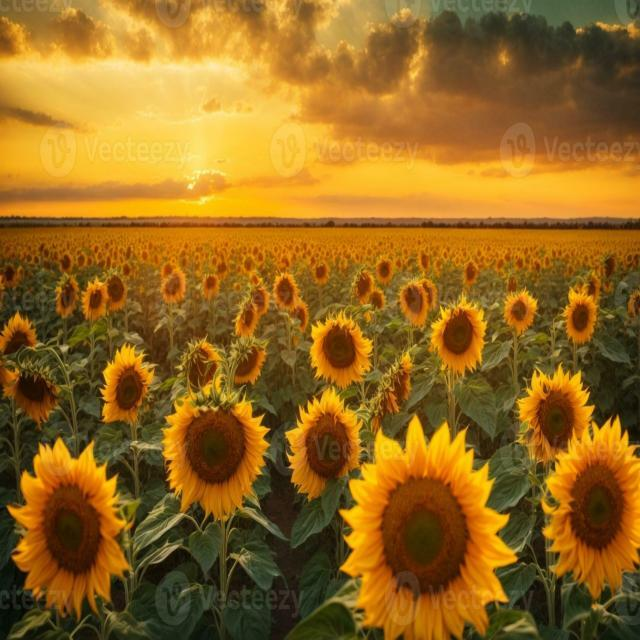sunflower: (338, 413, 518, 639), (6, 436, 131, 622), (540, 413, 640, 600), (160, 375, 270, 519), (284, 386, 363, 501), (516, 362, 594, 464), (309, 308, 373, 389), (429, 294, 487, 376), (99, 342, 155, 424), (363, 351, 412, 436), (2, 366, 59, 428), (178, 337, 221, 395), (562, 284, 597, 344), (229, 336, 266, 386), (503, 288, 538, 336), (0, 310, 37, 354), (398, 280, 428, 327), (80, 276, 108, 322), (54, 274, 80, 318), (272, 272, 299, 312), (160, 268, 187, 305), (104, 274, 127, 312), (234, 302, 258, 338), (352, 270, 374, 304), (364, 288, 386, 322), (602, 253, 620, 292), (290, 299, 309, 333), (249, 286, 270, 316), (418, 278, 437, 310), (581, 273, 601, 303), (375, 256, 393, 286), (201, 272, 220, 300), (462, 262, 478, 290), (312, 262, 330, 286), (1, 264, 18, 288), (627, 289, 640, 318), (58, 252, 74, 273), (161, 260, 177, 280), (214, 260, 230, 280), (418, 248, 431, 272), (76, 252, 88, 270), (494, 254, 506, 271), (507, 274, 518, 292), (249, 272, 263, 286), (514, 257, 526, 273), (120, 261, 132, 276), (434, 258, 443, 276), (242, 258, 252, 273), (140, 248, 150, 263), (210, 254, 219, 270), (104, 254, 113, 270), (41, 244, 50, 260), (17, 264, 25, 282), (152, 252, 162, 266), (542, 255, 552, 269), (126, 244, 134, 260), (181, 254, 190, 268), (566, 264, 575, 278), (534, 260, 543, 274), (256, 250, 266, 262), (624, 252, 634, 264), (52, 249, 61, 262), (86, 256, 95, 268), (252, 245, 260, 258), (96, 258, 105, 269), (272, 244, 280, 256), (92, 242, 100, 254), (193, 251, 200, 264), (116, 254, 125, 264), (32, 254, 40, 264), (111, 248, 119, 258), (118, 246, 126, 256), (237, 264, 244, 275), (170, 256, 177, 266), (25, 252, 32, 262), (24, 267, 30, 278), (234, 284, 242, 292)
